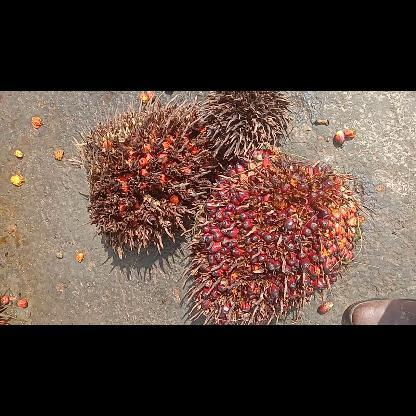Janjang kosong: (198, 90, 294, 158)
TBS masak: (180, 146, 364, 324)
Terlalu masak: (68, 90, 218, 258)
